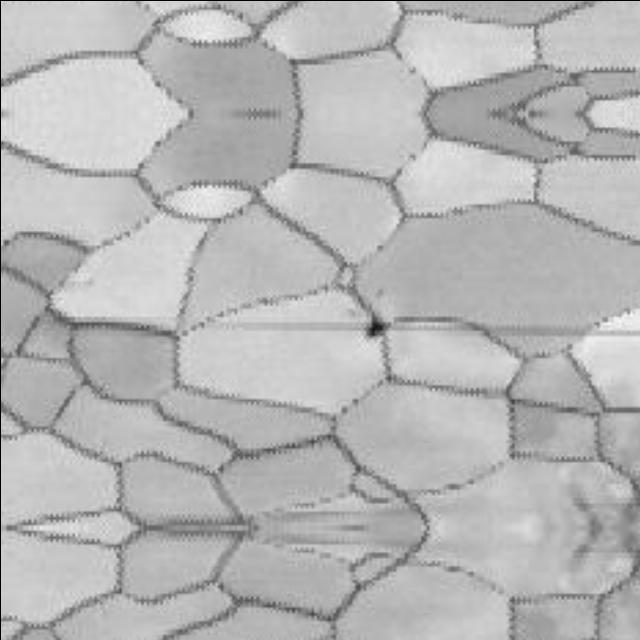good_void: (359, 309, 393, 341)
